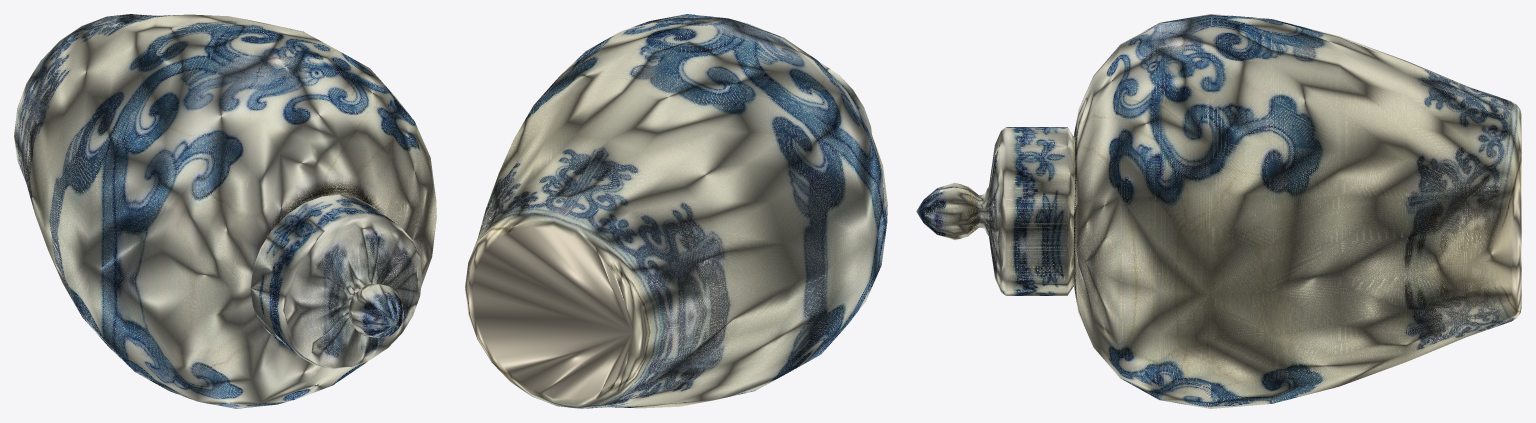
File: model_align.obj
3 renders of one model, left to right at view 1: azimuth 30°, elevation 25°; view 2: azimuth 150°, elevation 25°; view 3: azimuth 270°, elevation 25°, orthographic. The views are drawn at different scales.
Size of the model in its own units: 0.1345 by 0.1345 by 0.2054.
Materials: 1 (1 with a texture image).
